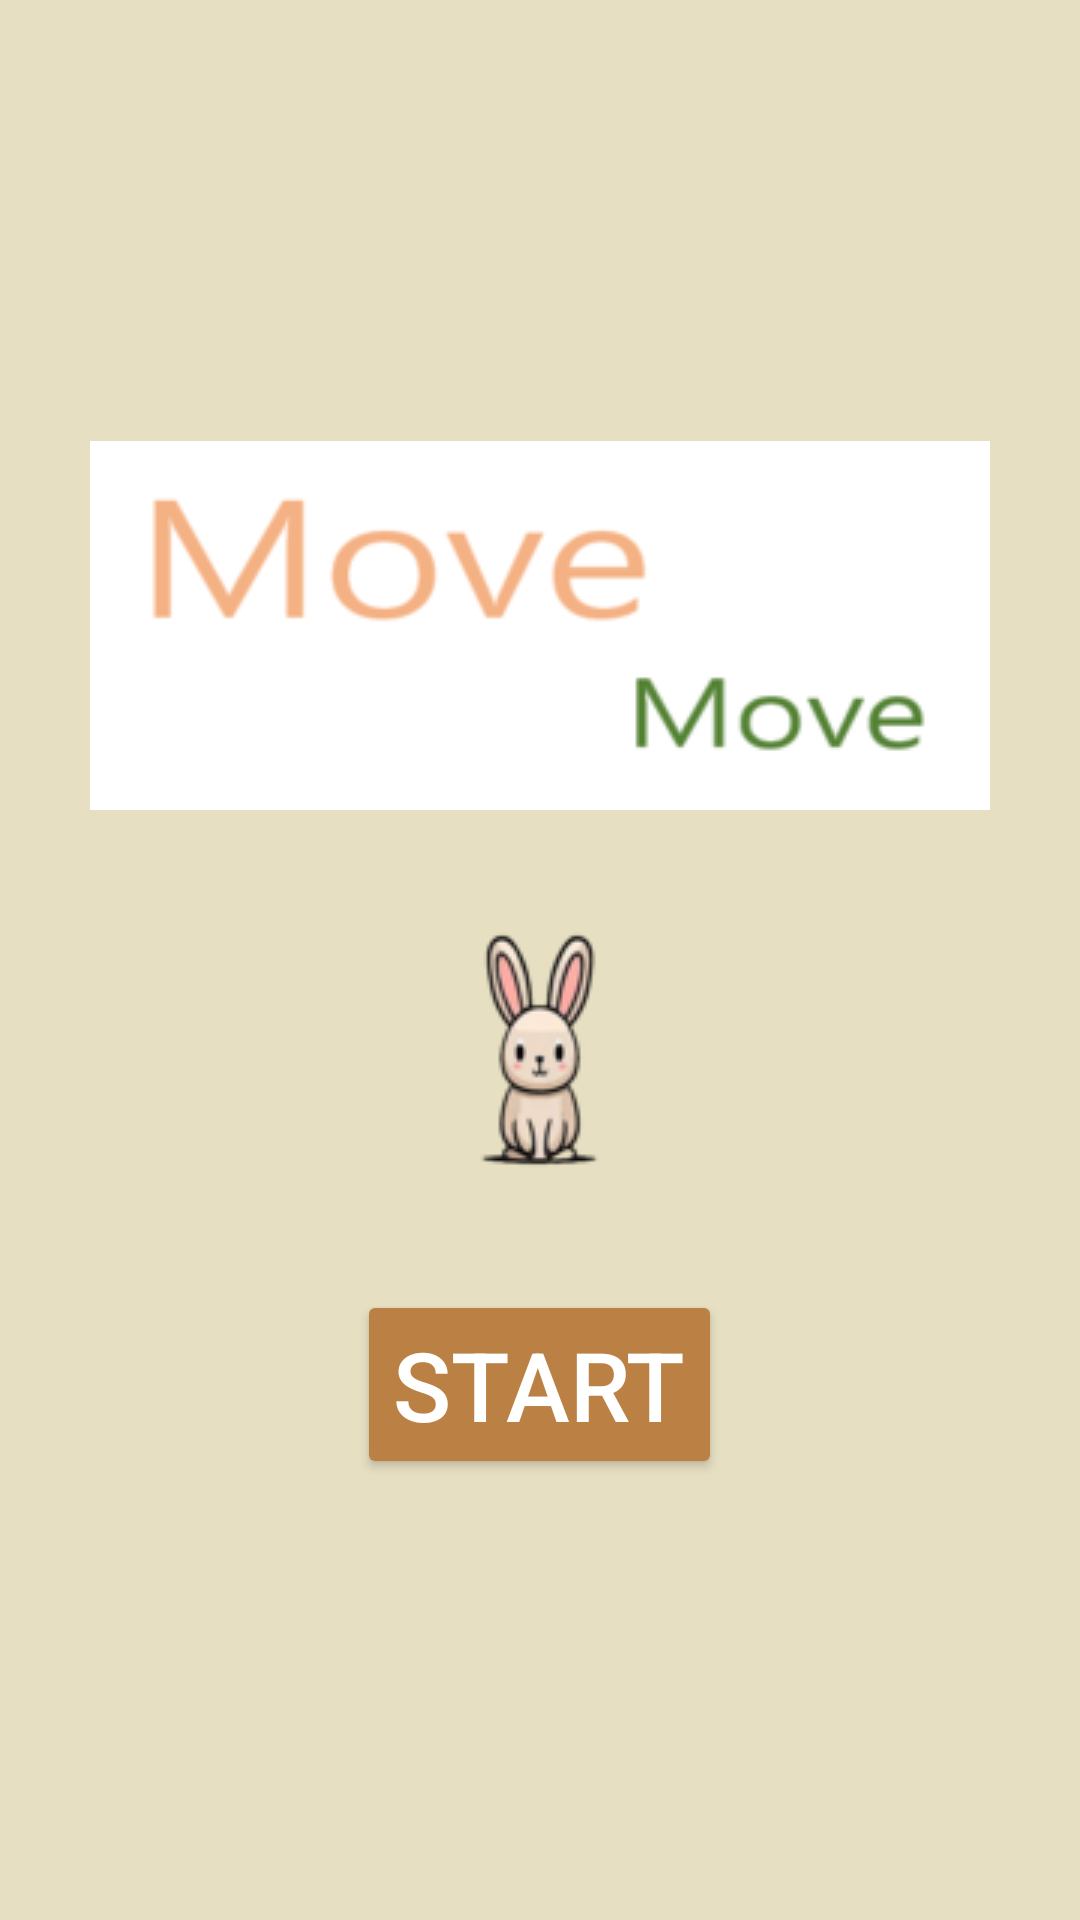

Point at icon controls on the screen. Image size 1080x1920, points as point (x, y).
rabbit: point (539, 1050)
